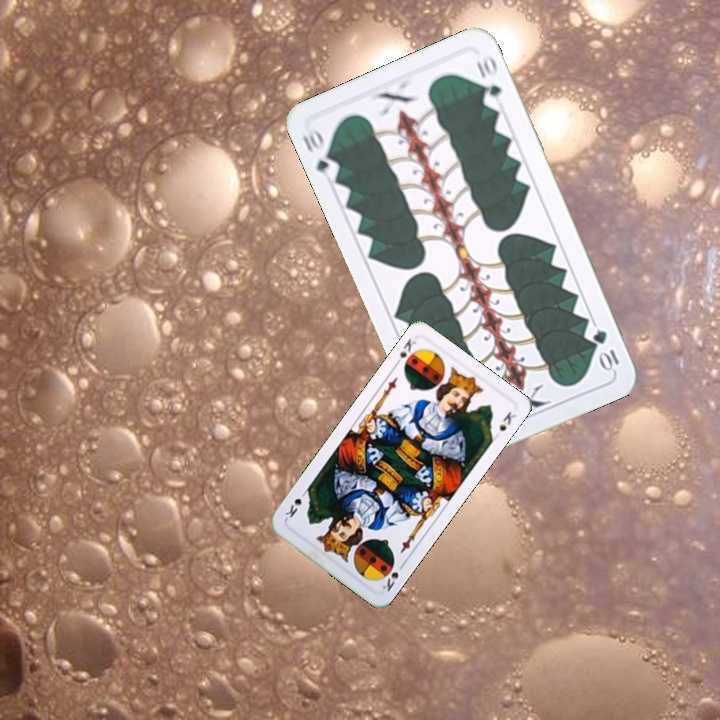G10: (298, 123, 342, 182), (589, 325, 622, 374)
SK: (392, 334, 420, 372), (378, 559, 407, 594)
